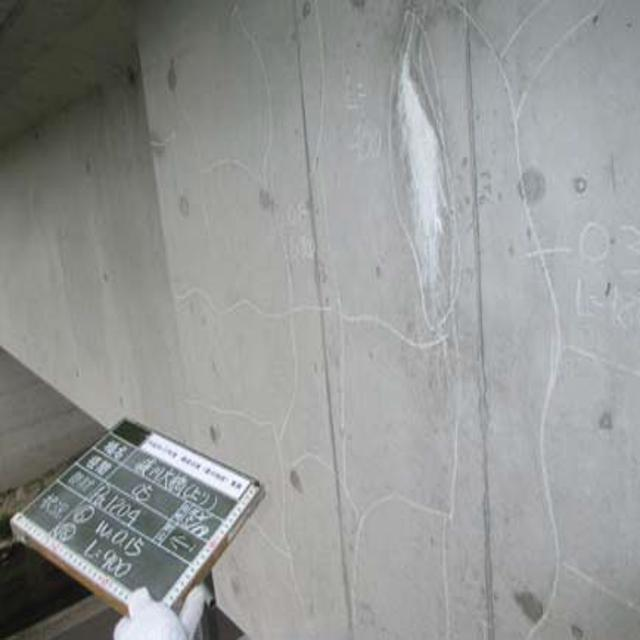freelime: (388, 43, 463, 313)
